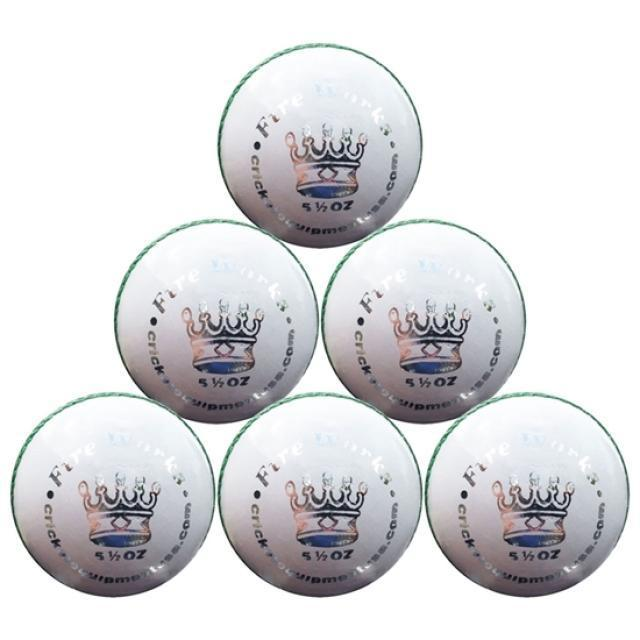cricket ball: (9, 393, 216, 600), (217, 391, 424, 598), (112, 218, 320, 424), (423, 391, 631, 597), (218, 44, 425, 248), (320, 219, 525, 424)
